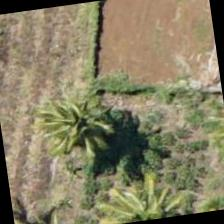Kelapa_Sawit: (31, 71, 133, 172), (96, 165, 193, 223)
